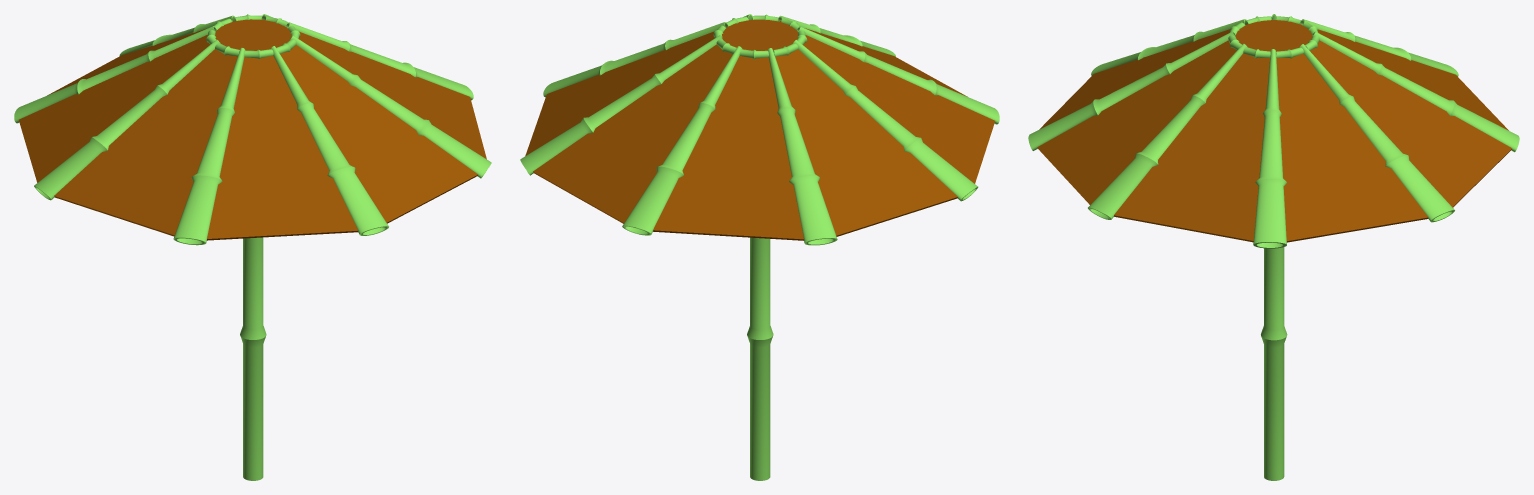
The model's file is Umbrella.fbx.
3 views of the same model, side by side, from view 1: azimuth 30°, elevation 25°; view 2: azimuth 150°, elevation 25°; view 3: azimuth 270°, elevation 25° (orthographic).
Parts seen in each view (by area): view 1: UmbrellaShield, UmbrellaShield.001, UmbrellaShield.002, UmbrellaShield.008, UmbrellaShield.003, UmbrellaShield.007, UmbrellaPole, UmbrellaTop, UmbrellaShield.004; view 2: UmbrellaShield, UmbrellaShield.004, UmbrellaShield.003, UmbrellaShield.005, UmbrellaShield.002, UmbrellaShield.006, UmbrellaPole, UmbrellaTop, UmbrellaShield.001; view 3: UmbrellaShield, UmbrellaShield.006, UmbrellaShield.007, UmbrellaShield.005, UmbrellaShield.008, UmbrellaPole, UmbrellaShield.004, UmbrellaShield.001, UmbrellaTop.
Part boxes in pixels (x1=…): UmbrellaShield: x1=14, y1=14, x2=491, y2=245; UmbrellaShield.001: x1=207, y1=55, x2=358, y2=240; UmbrellaShield.002: x1=54, y1=49, x2=237, y2=236; UmbrellaShield.008: x1=280, y1=45, x2=477, y2=223; UmbrellaShield.003: x1=19, y1=34, x2=210, y2=182; UmbrellaShield.007: x1=298, y1=31, x2=486, y2=159; UmbrellaPole: x1=240, y1=237, x2=266, y2=480; UmbrellaTop: x1=215, y1=19, x2=291, y2=50; UmbrellaShield.004: x1=47, y1=28, x2=206, y2=95; UmbrellaShield: x1=520, y1=14, x2=999, y2=245; UmbrellaShield.004: x1=653, y1=55, x2=803, y2=240; UmbrellaShield.003: x1=775, y1=49, x2=957, y2=236; UmbrellaShield.005: x1=533, y1=44, x2=732, y2=223; UmbrellaShield.002: x1=803, y1=35, x2=995, y2=183; UmbrellaShield.006: x1=525, y1=31, x2=714, y2=155; UmbrellaPole: x1=747, y1=237, x2=773, y2=480; UmbrellaTop: x1=722, y1=19, x2=798, y2=50; UmbrellaShield.001: x1=804, y1=28, x2=967, y2=96; UmbrellaShield: x1=1028, y1=14, x2=1519, y2=248; UmbrellaShield.006: x1=1276, y1=53, x2=1428, y2=242; UmbrellaShield.007: x1=1114, y1=53, x2=1269, y2=242; UmbrellaShield.005: x1=1310, y1=40, x2=1511, y2=207; UmbrellaShield.008: x1=1037, y1=40, x2=1236, y2=204; UmbrellaPole: x1=1261, y1=247, x2=1287, y2=480; UmbrellaShield.004: x1=1317, y1=29, x2=1508, y2=130; UmbrellaShield.001: x1=1039, y1=29, x2=1230, y2=129; UmbrellaTop: x1=1235, y1=20, x2=1312, y2=51.
Bounding box in the file's own units: 1517 × 1517 × 1517.
